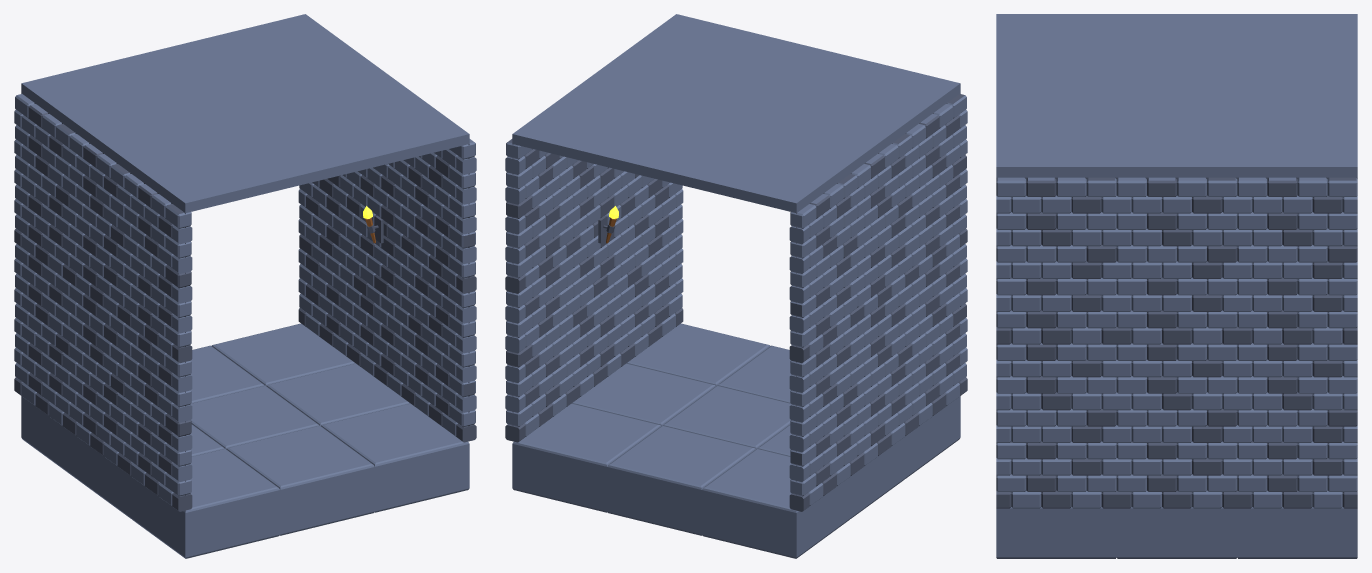
Rendered from Corridor.gltf.
3 renders of one model, left to right at view 1: azimuth 30°, elevation 25°; view 2: azimuth 150°, elevation 25°; view 3: azimuth 270°, elevation 25°, orthographic. The views are drawn at different scales.
Visible parts, largest first — view 1: Floor, Ceiling, W_WallUp_4, W_Wall_4, E_Wall_4, E_WallUp_4, W_WallUp_2, W_WallUp_0, W_Wall_2, W_Wall_0, E_Wall_0, E_Wall_2 (+2 smaller); view 2: Floor, Ceiling, W_WallUp_0, W_Wall_0, E_Wall_0, E_WallUp_0, W_WallUp_2, W_WallUp_4, W_Wall_2, W_Wall_4, E_Wall_4, E_Wall_2 (+2 smaller); view 3: Ceiling, E_WallUp_2, E_WallUp_0, E_WallUp_4, E_Wall_2, E_Wall_0, E_Wall_4, Floor.
Part boxes in pixels (left/top/right/bottom): Floor: left=21, top=323, right=469, bottom=558; Ceiling: left=21, top=14, right=469, bottom=213; W_WallUp_4: left=123, top=173, right=192, bottom=363; W_Wall_4: left=123, top=324, right=192, bottom=511; E_Wall_4: left=408, top=255, right=476, bottom=442; E_WallUp_4: left=408, top=139, right=476, bottom=293; W_WallUp_2: left=69, top=133, right=130, bottom=321; W_WallUp_0: left=14, top=93, right=75, bottom=282; W_Wall_2: left=69, top=284, right=125, bottom=470; W_Wall_0: left=14, top=244, right=70, bottom=430; E_Wall_0: left=298, top=182, right=355, bottom=361; E_Wall_2: left=353, top=214, right=409, bottom=401; Floor: left=512, top=323, right=960, bottom=558; Ceiling: left=512, top=14, right=960, bottom=213; W_WallUp_0: left=789, top=173, right=858, bottom=363; W_Wall_0: left=789, top=324, right=858, bottom=511; E_Wall_0: left=505, top=255, right=573, bottom=442; E_WallUp_0: left=505, top=139, right=573, bottom=293; W_WallUp_2: left=851, top=133, right=912, bottom=321; W_WallUp_4: left=906, top=93, right=967, bottom=282; W_Wall_2: left=856, top=284, right=912, bottom=470; W_Wall_4: left=911, top=244, right=967, bottom=430; E_Wall_4: left=626, top=182, right=683, bottom=361; E_Wall_2: left=572, top=214, right=628, bottom=401; Ceiling: left=996, top=14, right=1357, bottom=177; E_WallUp_2: left=1116, top=177, right=1237, bottom=344; E_WallUp_0: left=1237, top=177, right=1357, bottom=344; E_WallUp_4: left=996, top=177, right=1116, bottom=344; E_Wall_2: left=1116, top=343, right=1237, bottom=508; E_Wall_0: left=1237, top=343, right=1357, bottom=508; E_Wall_4: left=996, top=343, right=1116, bottom=508; Floor: left=996, top=507, right=1357, bottom=558.
Bounding box in the file's own units: 6.3 × 7.2 × 6.
